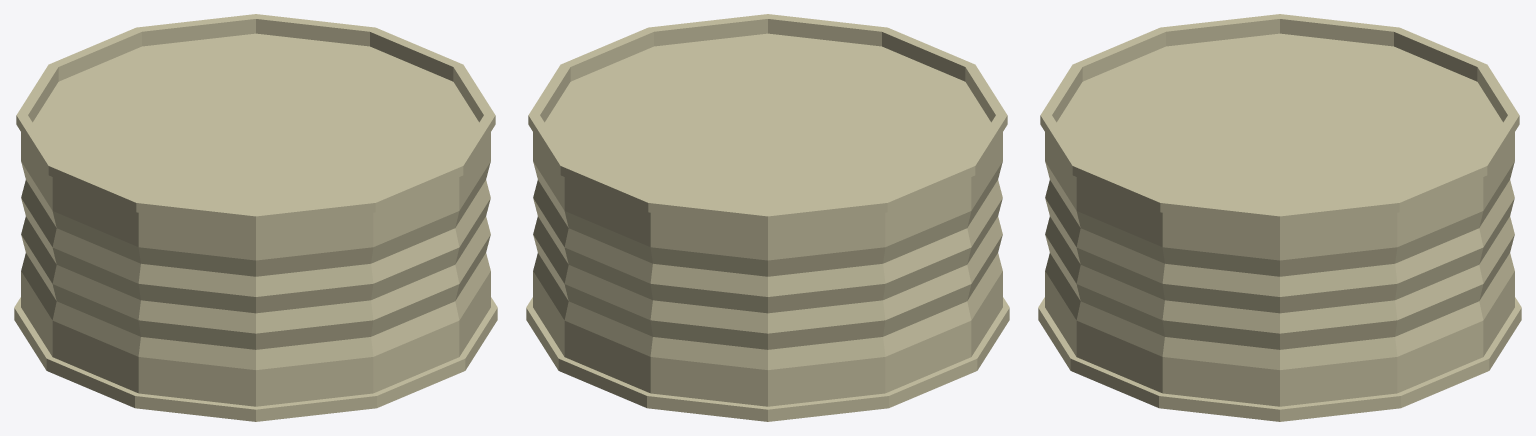
Rendered from Canned_Food_4_mat.fbx.
The picture shows the model from 3 angles, left to right: view 1: azimuth 30°, elevation 25°; view 2: azimuth 150°, elevation 25°; view 3: azimuth 270°, elevation 25°; orthographic projection.
Visible parts, largest first — view 1: Canned_Food_4_mat; view 2: Canned_Food_4_mat; view 3: Canned_Food_4_mat.
Part boxes in pixels (x1,y1,x2,y2): Canned_Food_4_mat: (14,14,497,421); Canned_Food_4_mat: (526,14,1009,421); Canned_Food_4_mat: (1038,14,1521,421).
Size of the model in its own units: 9.86 by 4.6 by 9.86.
